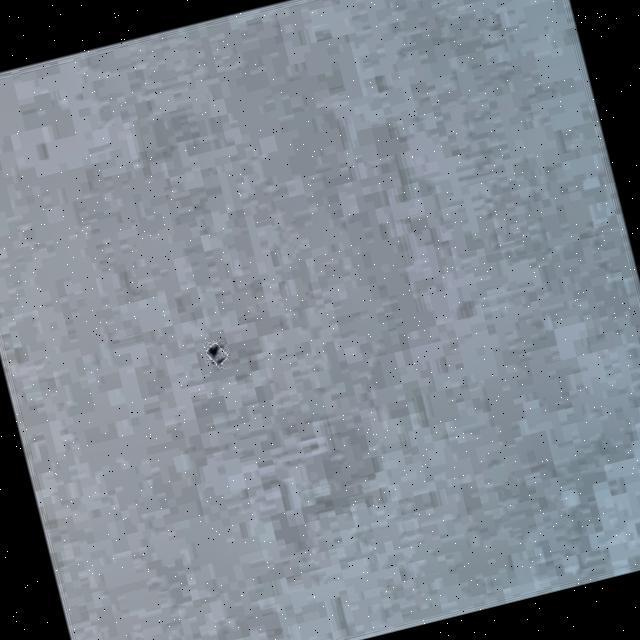iha: (196, 326, 247, 370)
